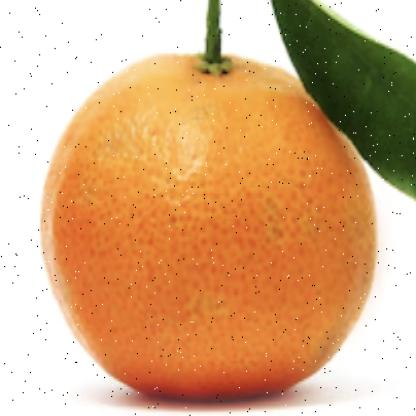fresh: (42, 50, 374, 406)
